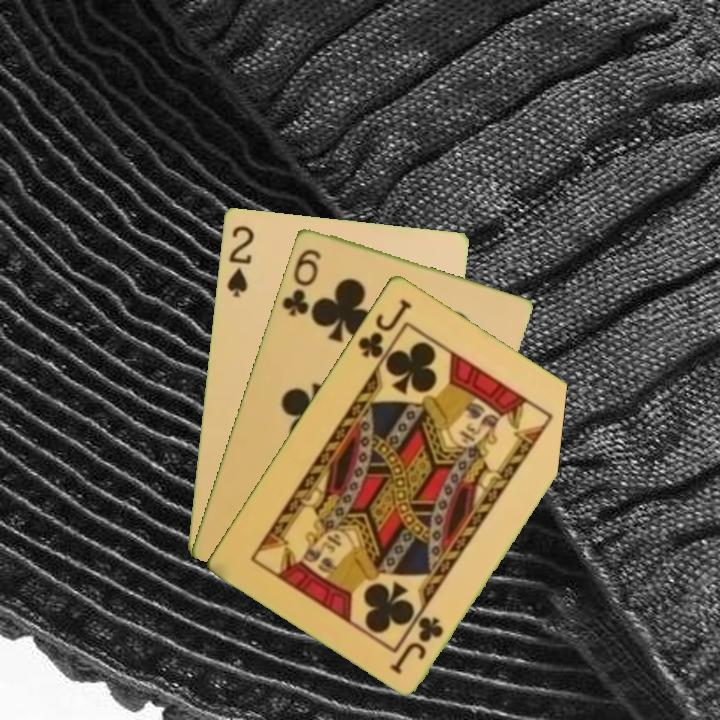2s: (222, 221, 257, 300)
6c: (278, 244, 323, 319)
Jc: (354, 294, 415, 361), (387, 612, 447, 677)
